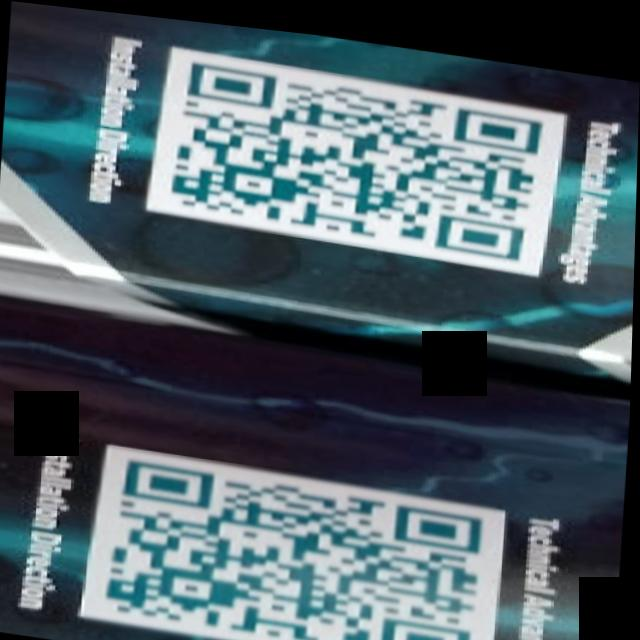QR_CODE: (138, 42, 550, 260), (87, 440, 499, 640)
